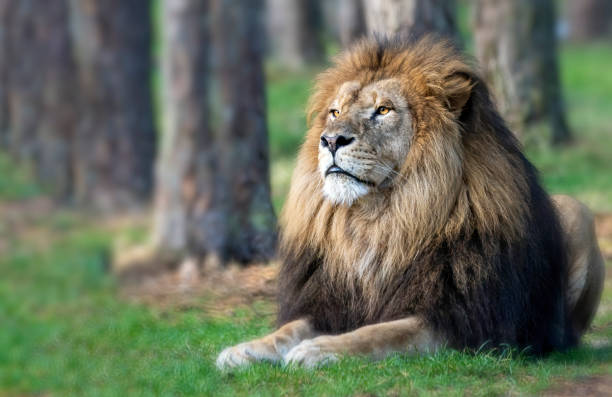lion: (239, 21, 566, 370)
